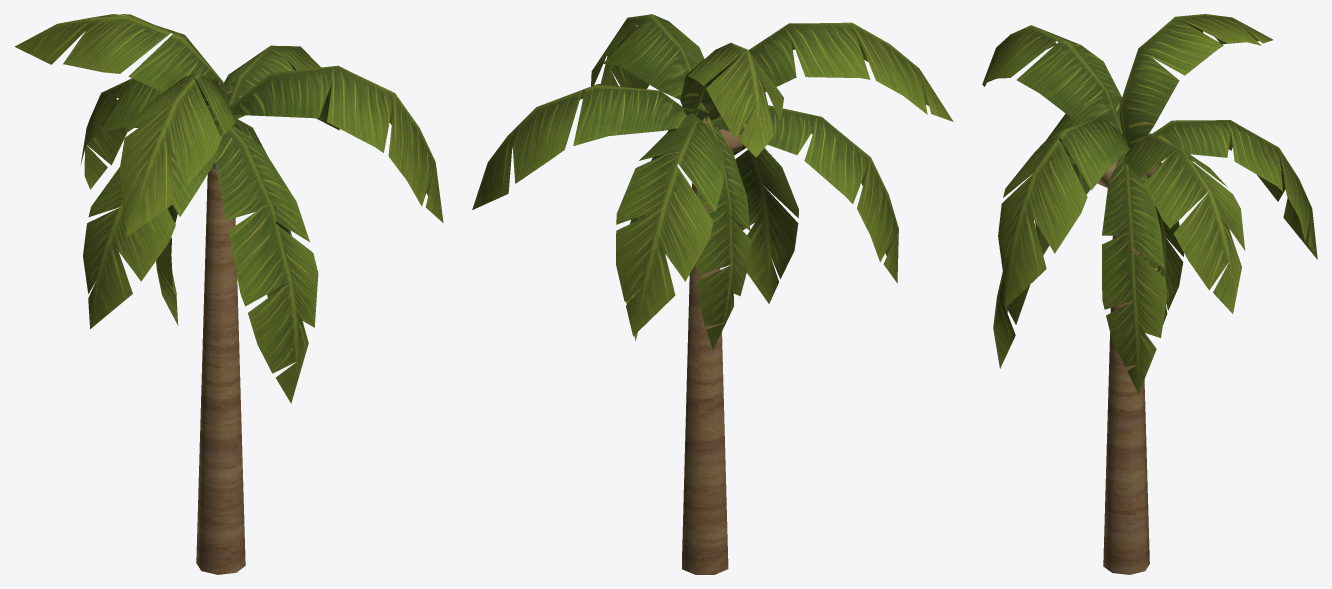
Rendered from modelCoconut 1.fbx.
3 views of the same model, side by side, from view 1: azimuth 30°, elevation 25°; view 2: azimuth 150°, elevation 25°; view 3: azimuth 270°, elevation 25° (orthographic). The views are drawn at different scales.
Parts seen in each view (by area): view 1: modelCoconut; view 2: modelCoconut; view 3: modelCoconut.
Boxes of the visible parts, x1,y1,x2,y2 form: modelCoconut: [15, 14, 443, 574]; modelCoconut: [472, 14, 953, 574]; modelCoconut: [982, 14, 1317, 574].
Size of the model in its own units: 68.53 by 104 by 61.
